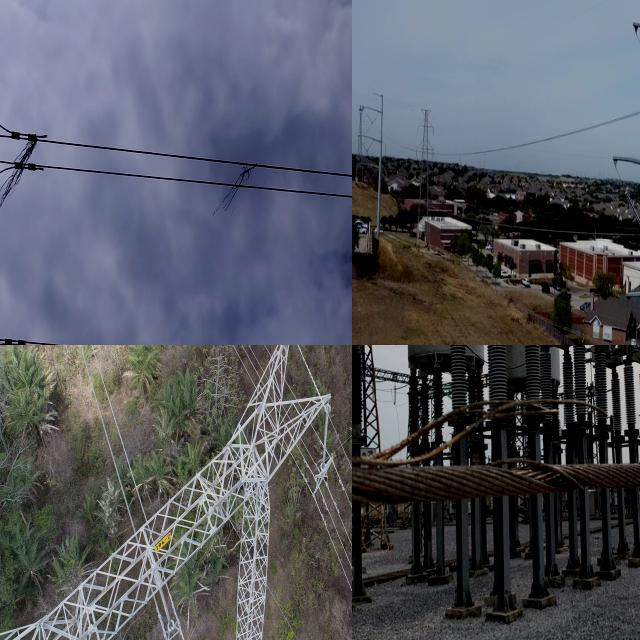杆塔: (0, 345, 339, 640), (414, 102, 434, 234), (352, 97, 367, 185)
植被遮挡: (205, 152, 262, 228), (0, 130, 38, 218)
正常绝缘子: (153, 571, 175, 632), (617, 176, 640, 233), (320, 403, 331, 472), (627, 305, 640, 343)
电缆破损: (352, 345, 640, 520)
